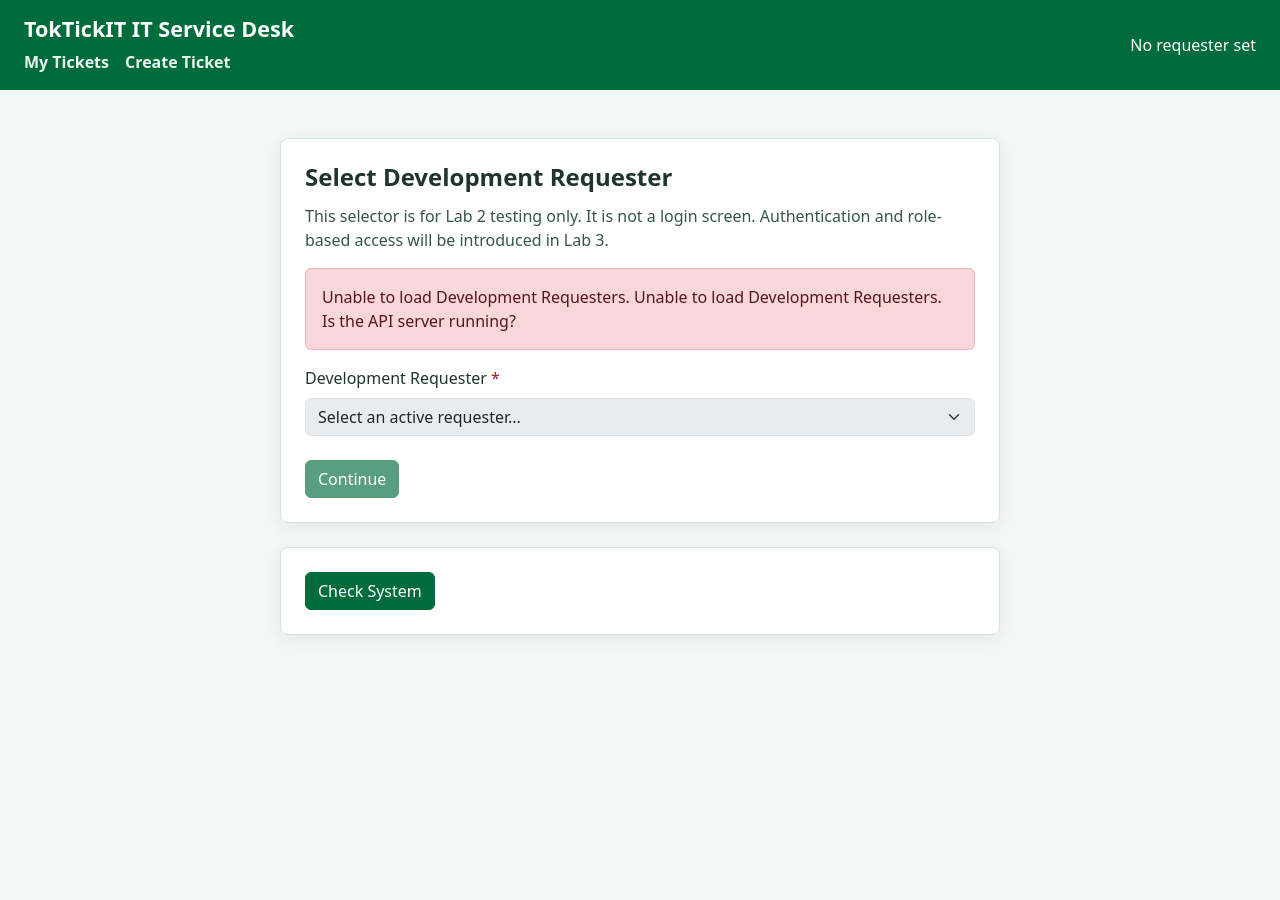
Test: App › shows an Offline error message when the API is unavailable
Click the button "Check System" at x=370, y=591, box [305,572,435,610]
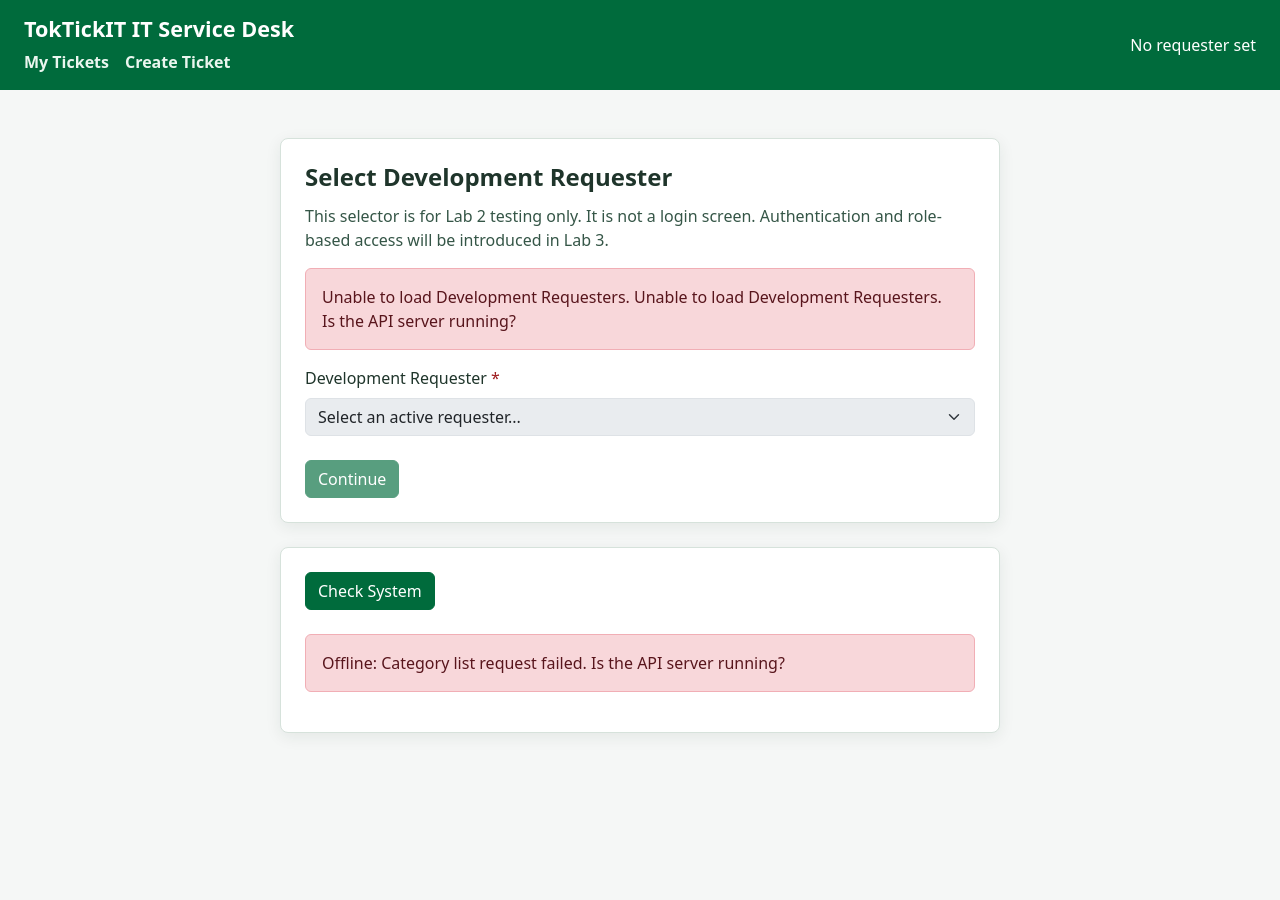
Expected: the text "Offline: Category list request failed. Is the API server running?" is shown, [305,634,975,692]
